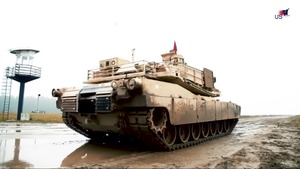abrams: (53, 54, 242, 143)
